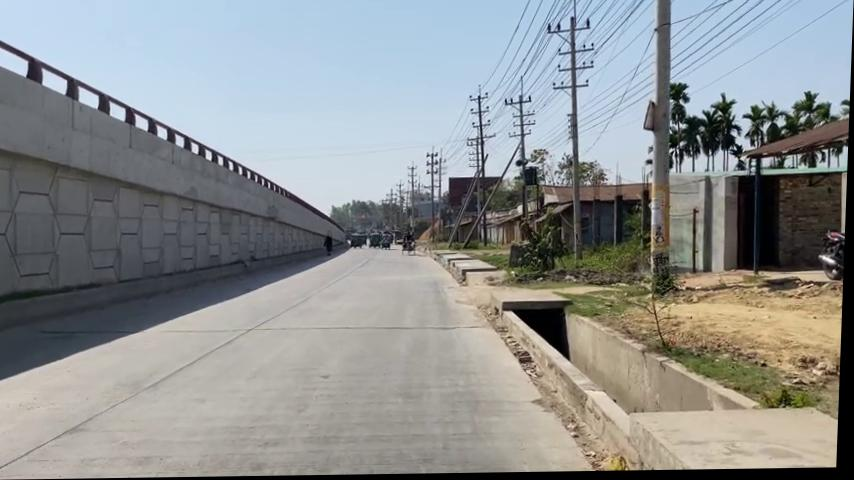Curb: (818, 231, 846, 283)
Fallen-tree: (0, 34, 355, 301)
Fence: (325, 235, 334, 256)
Garbage: (540, 0, 597, 263), (645, 0, 680, 294)
Garbage-bin: (509, 295, 654, 424)
